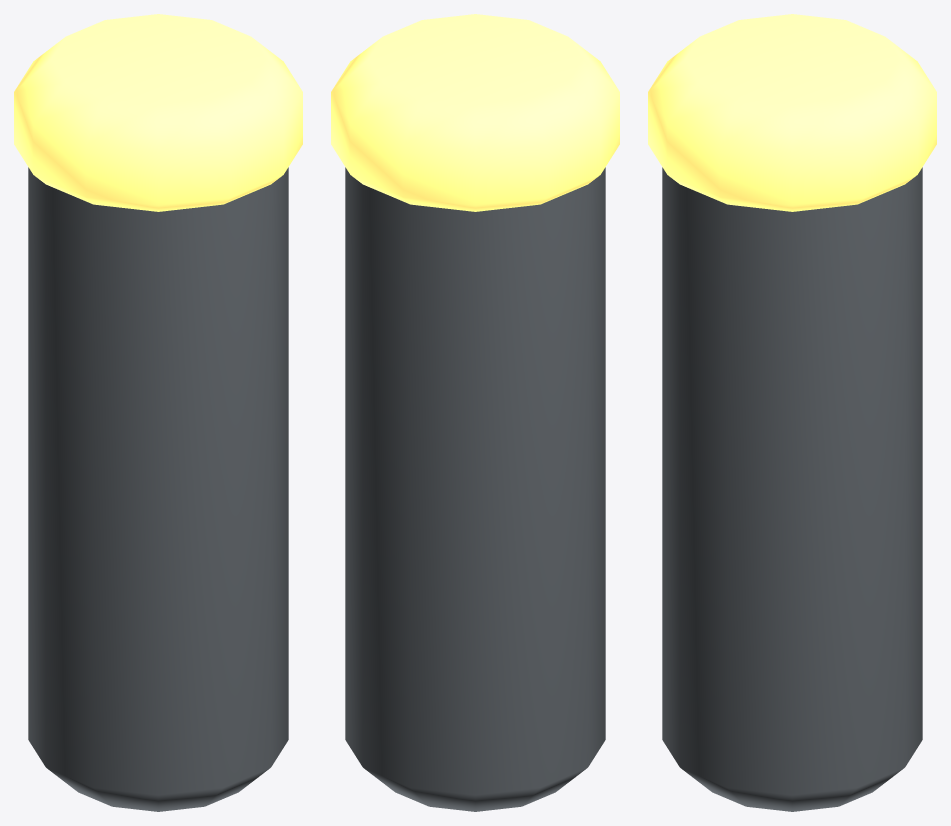
3 views of the same model, side by side, from view 1: azimuth 30°, elevation 25°; view 2: azimuth 150°, elevation 25°; view 3: azimuth 270°, elevation 25° (orthographic).
Parts seen in each view (by area): view 1: LOD2_PED_LIGHT_BOLLARD_Post, LOD2_PED_LIGHT_BOLLARD_Glow; view 2: LOD2_PED_LIGHT_BOLLARD_Post, LOD2_PED_LIGHT_BOLLARD_Glow; view 3: LOD2_PED_LIGHT_BOLLARD_Post, LOD2_PED_LIGHT_BOLLARD_Glow.
Boxes of the visible parts, x1=… form: LOD2_PED_LIGHT_BOLLARD_Post: x1=28, y1=167, x2=288, y2=811; LOD2_PED_LIGHT_BOLLARD_Glow: x1=14, y1=14, x2=302, y2=211; LOD2_PED_LIGHT_BOLLARD_Post: x1=345, y1=167, x2=605, y2=811; LOD2_PED_LIGHT_BOLLARD_Glow: x1=331, y1=14, x2=619, y2=211; LOD2_PED_LIGHT_BOLLARD_Post: x1=662, y1=167, x2=922, y2=811; LOD2_PED_LIGHT_BOLLARD_Glow: x1=648, y1=14, x2=936, y2=211.
Size of what is drawn, in the model's own units: 0.4 by 1.09 by 0.4.
